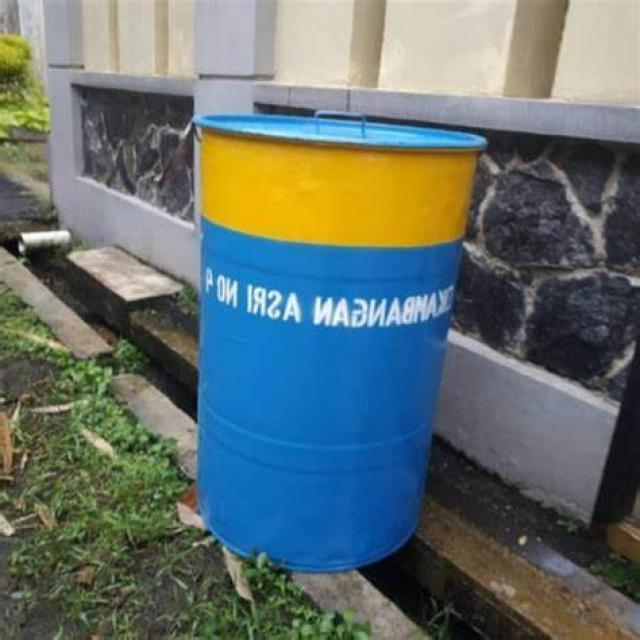garbage container: (173, 102, 518, 580)
